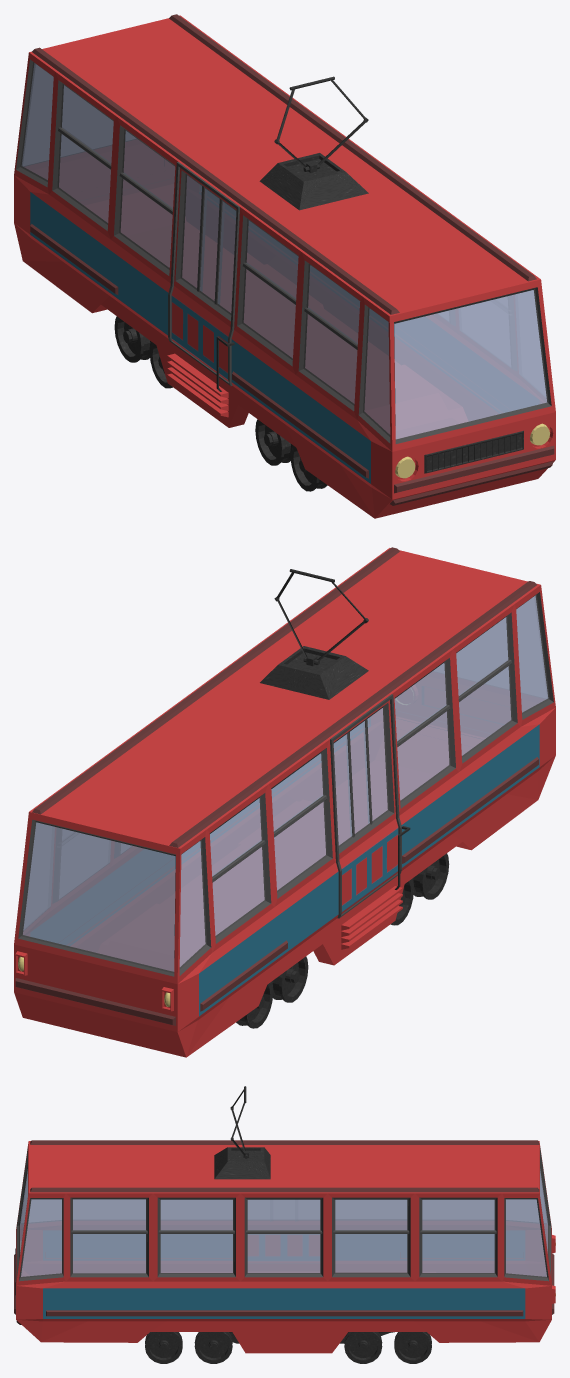
The model's file is tram.glb.
3 views of the same model, one above another, from view 1: azimuth 30°, elevation 25°; view 2: azimuth 150°, elevation 25°; view 3: azimuth 270°, elevation 25° (orthographic). The views are drawn at different scales.
Parts seen in each view (by area): view 1: Object_7, Object_5, Object_8, Object_3, Object_6, Object_9, Object_4; view 2: Object_7, Object_5, Object_8, Object_3, Object_6, Object_9; view 3: Object_7, Object_5, Object_6, Object_8, Object_3, Object_9.
Boxes of the visible parts, left/top/right/bottom form: Object_7: left=14, top=15, right=555, bottom=518; Object_5: left=21, top=63, right=547, bottom=439; Object_8: left=16, top=59, right=551, bottom=443; Object_3: left=30, top=14, right=554, bottom=505; Object_6: left=30, top=192, right=370, bottom=483; Object_9: left=114, top=76, right=523, bottom=491; Object_4: left=395, top=423, right=549, bottom=478; Object_7: left=14, top=548, right=555, bottom=1057; Object_5: left=23, top=595, right=548, bottom=971; Object_8: left=18, top=592, right=553, bottom=976; Object_3: left=15, top=547, right=538, bottom=1025; Object_6: left=199, top=724, right=539, bottom=1016; Object_9: left=236, top=569, right=449, bottom=1028; Object_7: left=16, top=1141, right=555, bottom=1353; Object_5: left=20, top=1169, right=547, bottom=1276; Object_6: left=43, top=1288, right=525, bottom=1318; Object_8: left=16, top=1147, right=551, bottom=1281; Object_3: left=14, top=1140, right=554, bottom=1324; Object_9: left=15, top=1086, right=431, bottom=1363.
Bounding box in the file's own units: 11.67 × 21.9 × 43.49.
Materials: 7 (7 with a texture image).
